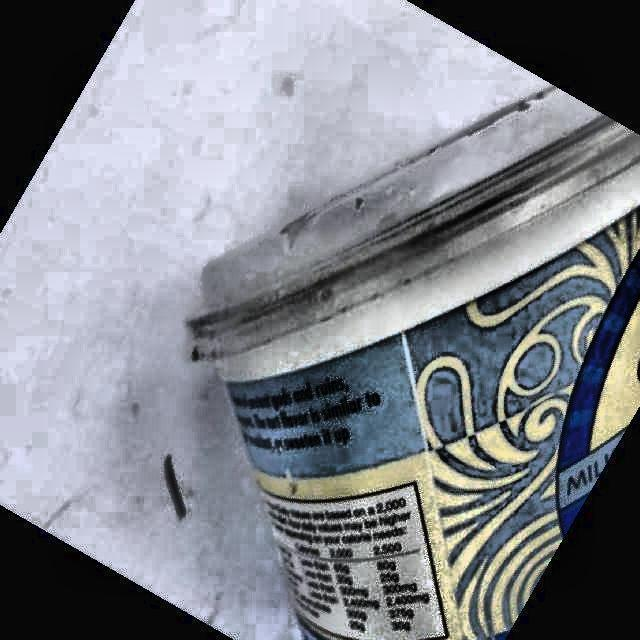plastic: (188, 89, 640, 639)
